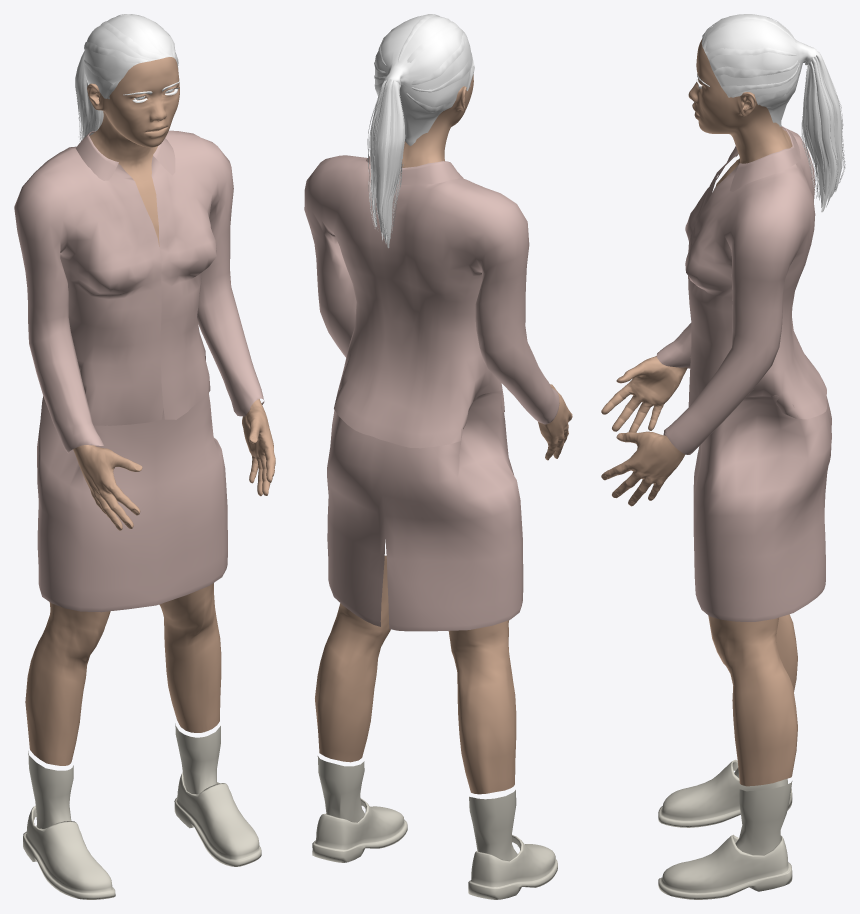
Rendered from young-woman.glb.
The picture shows the model from 3 angles, left to right: view 1: azimuth 30°, elevation 25°; view 2: azimuth 150°, elevation 25°; view 3: azimuth 270°, elevation 25°; orthographic projection. The views are drawn at different scales.
Visible parts, largest first — view 1: CC0 fitted clothes/female_elegantsuit01/female_elegantsuit01, smooth human anatomy with per-corner UV seams, CC0 fitted clothes/shoes04/shoes04, CC0 fitted hair/ponytail01/ponytail01; view 2: CC0 fitted clothes/female_elegantsuit01/female_elegantsuit01, smooth human anatomy with per-corner UV seams, CC0 fitted hair/ponytail01/ponytail01, CC0 fitted clothes/shoes04/shoes04; view 3: CC0 fitted clothes/female_elegantsuit01/female_elegantsuit01, smooth human anatomy with per-corner UV seams, CC0 fitted hair/ponytail01/ponytail01, CC0 fitted clothes/shoes04/shoes04.
Part boxes in pixels (x1,y1,x2,y2): CC0 fitted clothes/female_elegantsuit01/female_elegantsuit01: (14, 130, 264, 612); smooth human anatomy with per-corner UV seams: (25, 57, 275, 765); CC0 fitted clothes/shoes04/shoes04: (23, 723, 261, 899); CC0 fitted hair/ponytail01/ponytail01: (75, 14, 178, 141); CC0 fitted clothes/female_elegantsuit01/female_elegantsuit01: (304, 155, 559, 631); smooth human anatomy with per-corner UV seams: (315, 74, 572, 794); CC0 fitted hair/ponytail01/ponytail01: (367, 14, 474, 248); CC0 fitted clothes/shoes04/shoes04: (312, 756, 557, 899); CC0 fitted clothes/female_elegantsuit01/female_elegantsuit01: (656, 126, 831, 621); smooth human anatomy with per-corner UV seams: (601, 39, 797, 786); CC0 fitted hair/ponytail01/ponytail01: (701, 14, 845, 212); CC0 fitted clothes/shoes04/shoes04: (658, 759, 792, 899).
Size of the model in its own units: 0.4346 by 1.67 by 0.4407.
